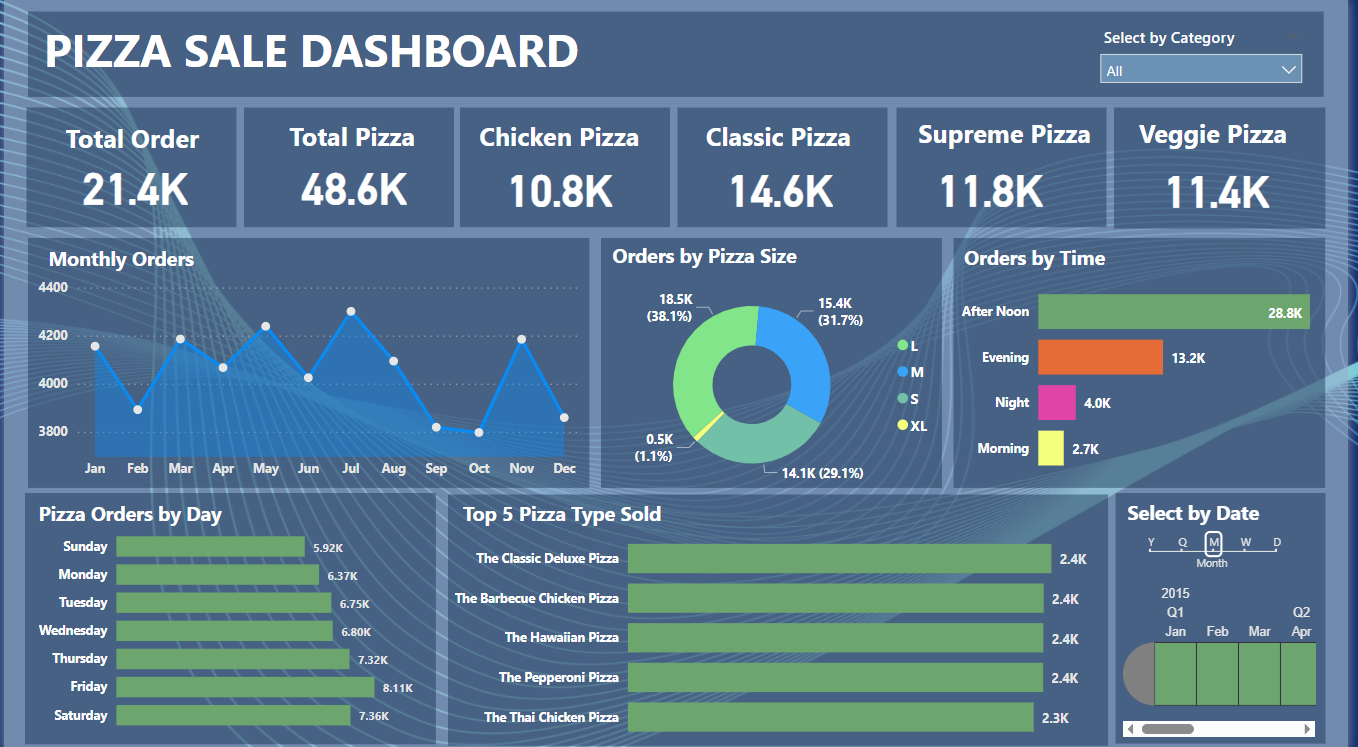

The page's visual inventory and layout, read from the dashboard file:
{"tool":"powerbi","page":{"name":"Page 1","canvas":[1280,720],"ordinal":0},"visuals":[{"type":"shape","box":[22.7,13.2,1234,81.3],"z":0,"group":"g5"},{"type":"shape","box":[1058.9,471.7,199.9,239],"z":0},{"type":"shape","box":[21.9,104.6,199.9,114],"z":1000},{"type":"shape","box":[434.2,104.6,199.9,114],"z":2000},{"type":"shape","box":[641.9,104.6,199.9,114],"z":3000},{"type":"shape","box":[850.3,104.6,199.9,114],"z":4000},{"type":"shape","box":[1057.4,104.6,201,115.6],"z":5000},{"type":"shape","box":[568.2,228.4,325,237.7],"z":6000},{"type":"cardVisual","fields":{"Data":["Pizza Sale.Total Orders"]},"box":[57.8,132.8,157.7,81.2],"z":7000},{"type":"textbox","box":[32.1,15.1,614.2,73.7],"z":8000,"group":"g5"},{"type":"textbox","box":[21.9,110.9,201.5,67.2],"z":8000},{"type":"cardVisual","fields":{"Data":["Pizza Sale.sum of orders"]},"box":[460.7,134.3,143.7,84.3],"z":9000},{"type":"textbox","box":[417,109.3,223.3,68.7],"z":10000},{"type":"cardVisual","fields":{"Data":["Pizza Sale.sum of orders"]},"box":[671.6,134.3,157.7,84.3],"z":11000},{"type":"textbox","box":[626.3,109.3,223.3,68.7],"z":12000},{"type":"group","id":"g1","title":"Group 6","box":[0,228.4,557.1,237.7],"z":13000},{"type":"cardVisual","fields":{"Data":["Pizza Sale.sum of orders"]},"box":[871.5,134.3,168.7,81.2],"z":14000},{"type":"group","id":"g2","title":"Group 7","box":[555.2,226.5,337.5,250.3],"z":15000},{"type":"textbox","box":[841.8,107.8,223,68],"z":16000},{"type":"shape","box":[22.3,228.4,534.8,237.7],"z":17000,"group":"g1"},{"type":"group","id":"g3","title":"Group 8","box":[880.2,228.4,380,239.5],"z":17000},{"type":"textbox","box":[1040.2,107.8,223,68],"z":18000},{"type":"cardVisual","fields":{"Data":["Pizza Sale.sum of orders"]},"box":[1087,135.9,171.8,81.2],"z":19000},{"type":"shape","box":[904.4,228.4,353.9,237.7],"z":19000,"group":"g3"},{"type":"donutChart","fields":{"Y":["Pizza Sale.sum of orders"],"Category":["Pizza Sale.pizza_size"]},"box":[568.1,257.9,324.6,218.8],"z":20000,"group":"g2"},{"type":"group","id":"g4","title":"Group 10","box":[14.9,471.3,400,239.2],"z":20000},{"type":"group","id":"g5","title":"Group 11","box":[22.7,13.2,1234,81.3],"z":21000},{"type":"textbox","box":[555.2,226.5,222.8,68.7],"z":21000,"group":"g2"},{"type":"shape","box":[228,104.6,199.9,114],"z":22000},{"type":"stackedAreaChart","fields":{"Y":["Pizza Sale.sum of orders"],"Category":["Calender.Month"]},"box":[27.9,261.8,527.4,204.3],"z":22000,"group":"g1"},{"type":"textbox","box":[228,109.3,206.2,67.2],"z":23000},{"type":"textbox","box":[0,230.3,222.8,68.7],"z":23000,"group":"g1"},{"type":"cardVisual","fields":{"Data":["Pizza Sale.sum of orders"]},"box":[265.5,132.8,157.7,81.2],"z":24000},{"type":"shape","box":[21,471.3,391,239.2],"z":24000,"group":"g4"},{"type":"shape","box":[422.5,472.4,628.4,239.2],"z":25000},{"type":"barChart","fields":{"Y":["Pizza Sale.sum of orders"],"Category":["Calender.Day"]},"box":[25.8,488.5,389.1,220.2],"z":26000,"group":"g4"},{"type":"barChart","fields":{"Category":["Pizza Sale.pizza_name"],"Y":["Pizza Sale.sum of orders"]},"box":[422.5,491,676.8,228.3],"z":26000},{"type":"textbox","box":[422.5,472.4,217.1,68.7],"z":27000},{"type":"textbox","box":[14.9,472.9,211.5,66.6],"z":27000,"group":"g4"},{"type":"barChart","fields":{"Category":["Pizza Sale.Time_category"],"Y":["Pizza Sale.sum of orders"]},"box":[906.3,250.7,353.9,217.3],"z":28000,"group":"g3"},{"type":"Timeline1447991079100","fields":{"Time":["Pizza Sale.order_date"]},"box":[1062,498.2,192.1,209.3],"z":28000},{"type":"textbox","box":[880.2,228.4,203,68.7],"z":29000,"group":"g3"},{"type":"textbox","box":[1051.1,471.7,162.4,35.9],"z":29000},{"type":"slicer","fields":{"Values":["Pizza Sale.pizza_category"]},"box":[1034.3,22.3,211.7,61.3],"z":32000,"group":"g5"}]}

Visuals, with their boxes in screenshot pixels (x1, y1, x2, y2), scaled from the page's 1280x720 canvas onto the 1358x747 screenshot:
shape: [24,14,1333,98]
shape: [1123,489,1336,737]
shape: [23,109,235,227]
shape: [461,109,673,227]
shape: [681,109,893,227]
shape: [902,109,1114,227]
shape: [1122,109,1335,228]
shape: [603,237,948,484]
cardVisual - Pizza Sale.Total Orders: [61,138,229,222]
textbox: [34,16,686,92]
textbox: [23,115,237,185]
cardVisual - Pizza Sale.sum of orders: [489,139,641,227]
textbox: [442,113,679,185]
cardVisual - Pizza Sale.sum of orders: [713,139,880,227]
textbox: [664,113,901,185]
"Group 6" group: [0,237,591,484]
cardVisual - Pizza Sale.sum of orders: [925,139,1104,224]
"Group 7" group: [589,235,947,495]
textbox: [893,112,1130,182]
shape: [24,237,591,484]
"Group 8" group: [934,237,1337,485]
textbox: [1104,112,1340,182]
cardVisual - Pizza Sale.sum of orders: [1153,141,1336,225]
shape: [960,237,1335,484]
donutChart - Pizza Sale.sum of orders x Pizza Sale.pizza_size: [603,268,947,495]
"Group 10" group: [16,489,440,737]
"Group 11" group: [24,14,1333,98]
textbox: [589,235,825,306]
shape: [242,109,454,227]
stackedAreaChart - Pizza Sale.sum of orders x Calender.Month: [30,272,589,484]
textbox: [242,113,461,183]
textbox: [0,239,236,310]
cardVisual - Pizza Sale.sum of orders: [282,138,449,222]
shape: [22,489,437,737]
shape: [448,490,1115,738]
barChart - Pizza Sale.sum of orders x Calender.Day: [27,507,440,735]
barChart - Pizza Sale.pizza_name x Pizza Sale.sum of orders: [448,509,1166,746]
textbox: [448,490,679,561]
textbox: [16,491,240,560]
barChart - Pizza Sale.Time_category x Pizza Sale.sum of orders: [962,260,1337,486]
Timeline1447991079100 - Pizza Sale.order_date: [1127,517,1331,734]
textbox: [934,237,1149,308]
textbox: [1115,489,1287,527]
slicer - Pizza Sale.pizza_category: [1097,23,1322,87]
